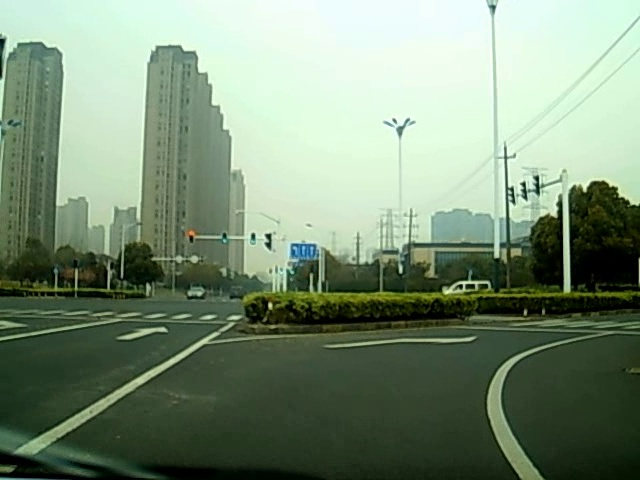Traffic_Light_go: (250, 231, 258, 246), (221, 231, 229, 245)
Traffic_Light_stop: (186, 227, 195, 244)
